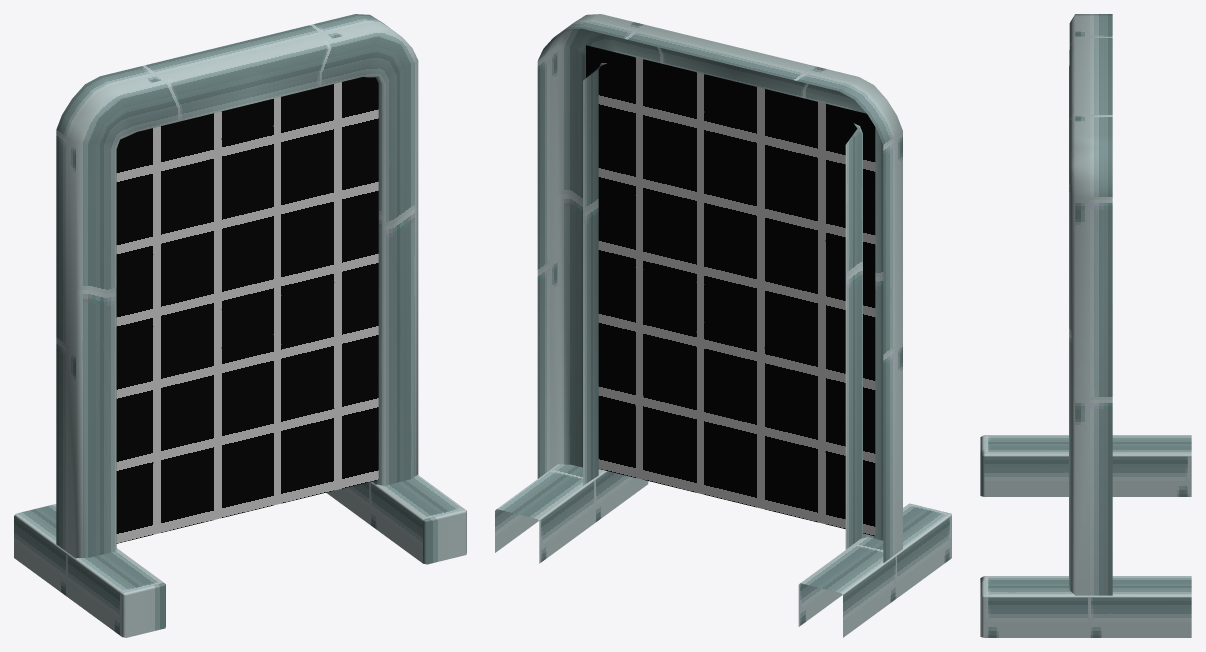
The model's file is fg_wall_ftrS.dae.
3 renders of one model, left to right at view 1: azimuth 30°, elevation 25°; view 2: azimuth 150°, elevation 25°; view 3: azimuth 270°, elevation 25°, orthographic. The views are drawn at different scales.
Parts seen in each view (by area): view 1: fg_wall_ftrS; view 2: fg_wall_ftrS; view 3: fg_wall_ftrS.
Part boxes in pixels (<box>): fg_wall_ftrS: <box>14,14,466,637</box>; fg_wall_ftrS: <box>495,14,951,637</box>; fg_wall_ftrS: <box>980,14,1191,637</box>.
Size of the model in its own units: 42.6 by 59.13 by 23.52.
Materials: 2 (2 with a texture image).
